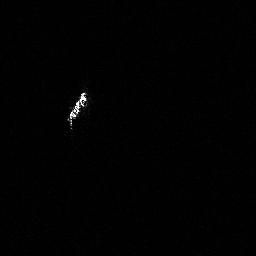ship: (64, 90, 89, 130)
